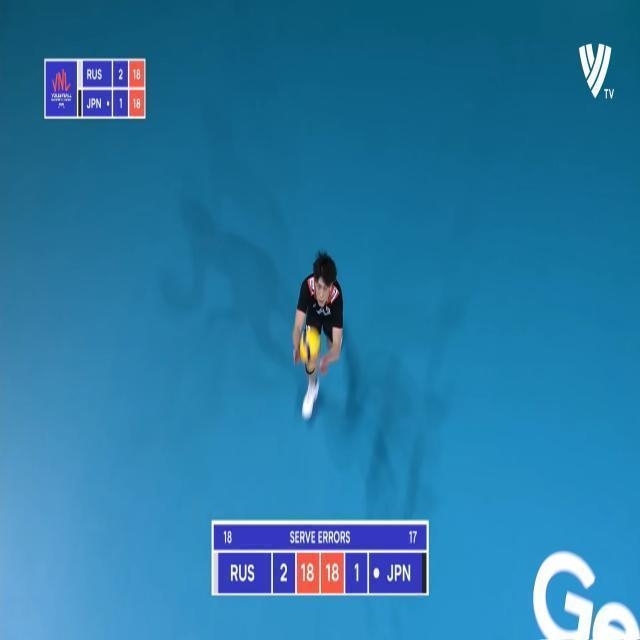volleyball: (299, 328, 320, 362)
